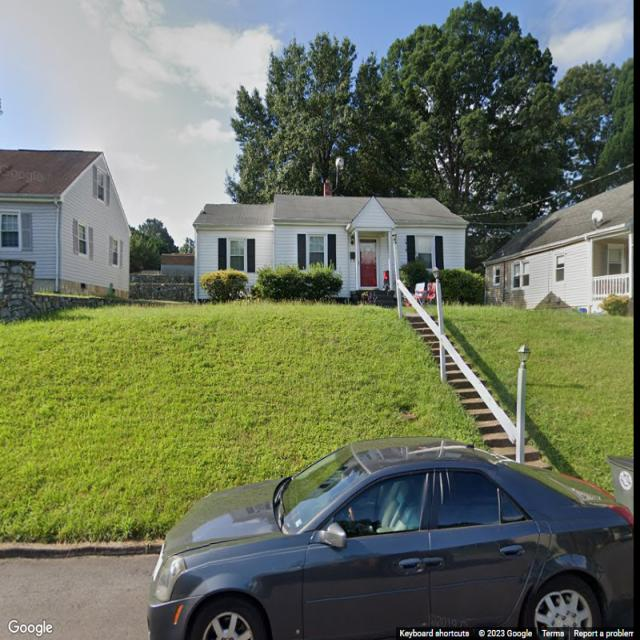House: (192, 180, 470, 306), (484, 180, 636, 316), (0, 150, 131, 300)
